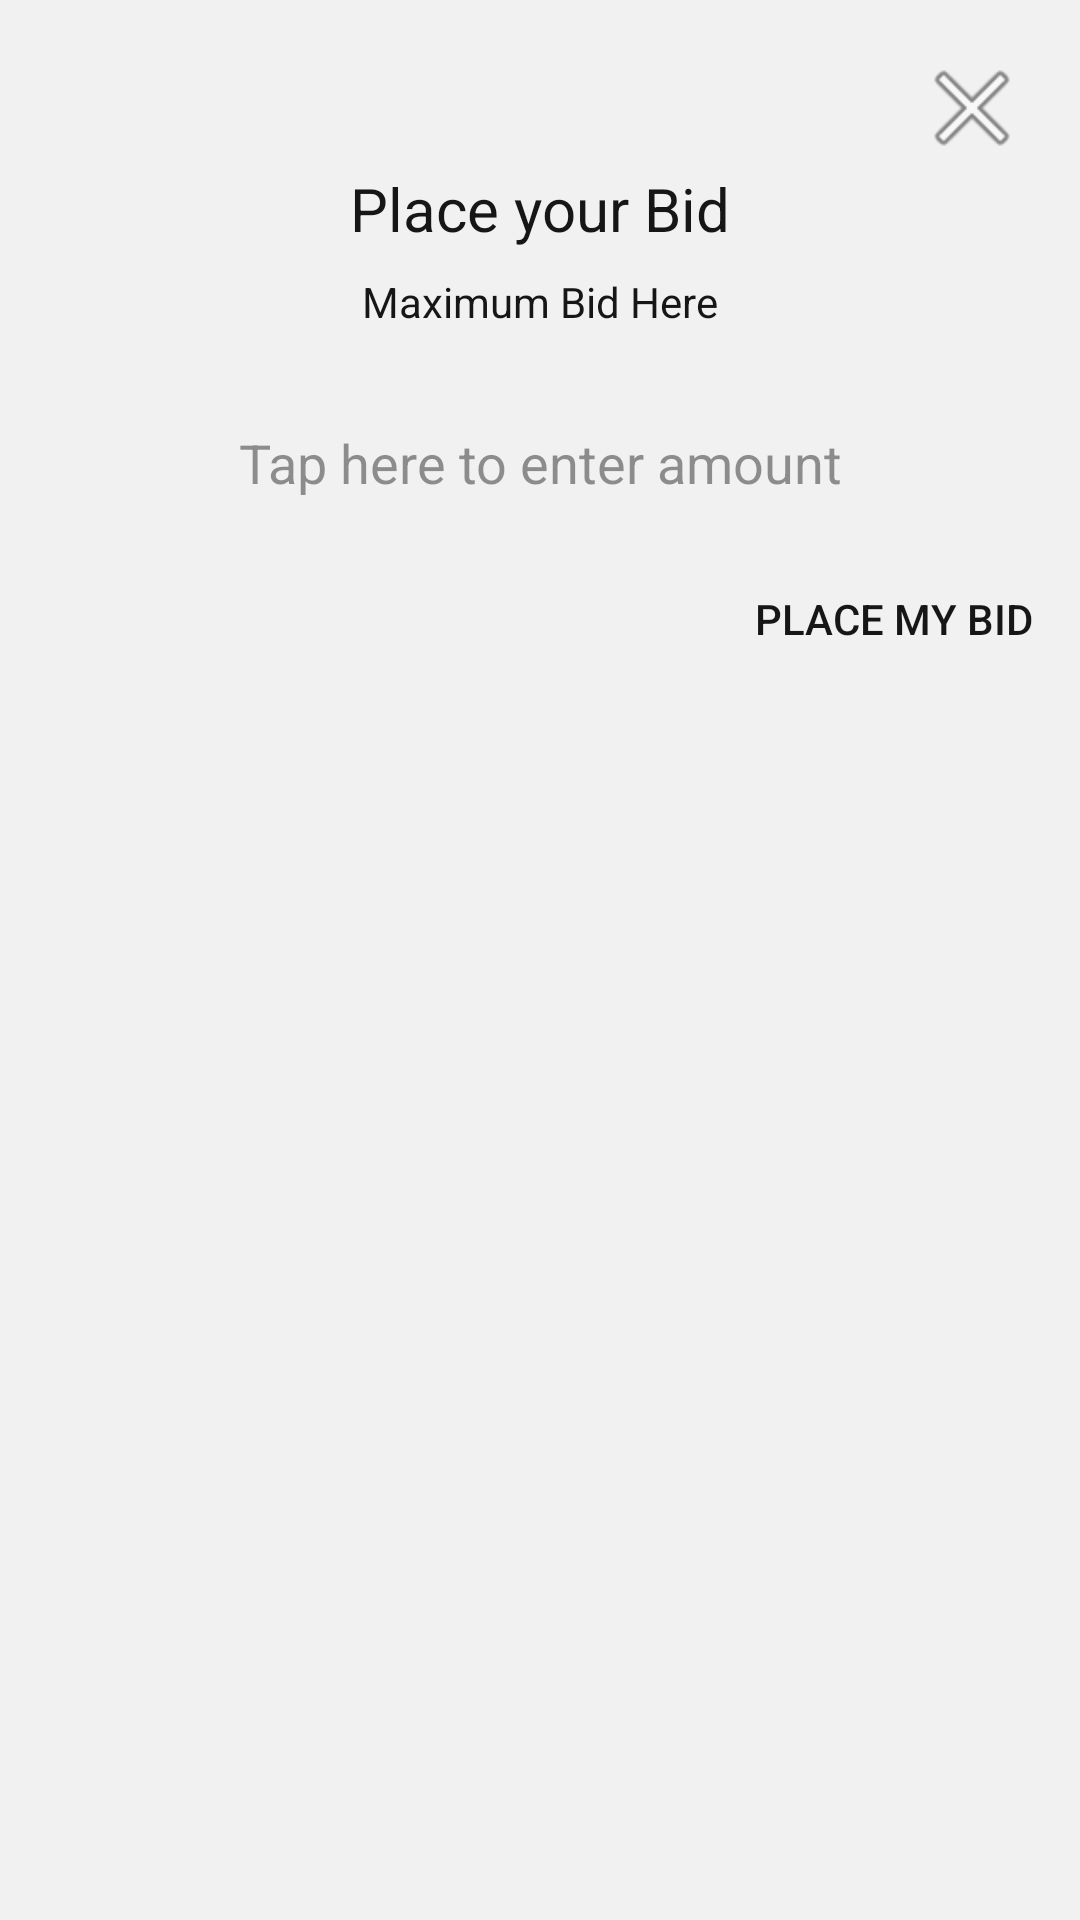

Icon click points for this 1080w x 1920h phone screenshot, format (x=x, y=y):
close clear cancel: (x=972, y=108)
